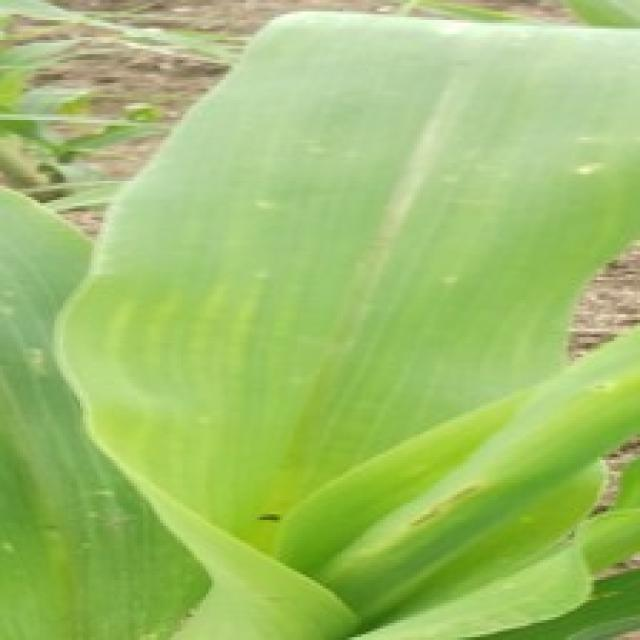Corn: (0, 0, 637, 637), (0, 162, 211, 637)
